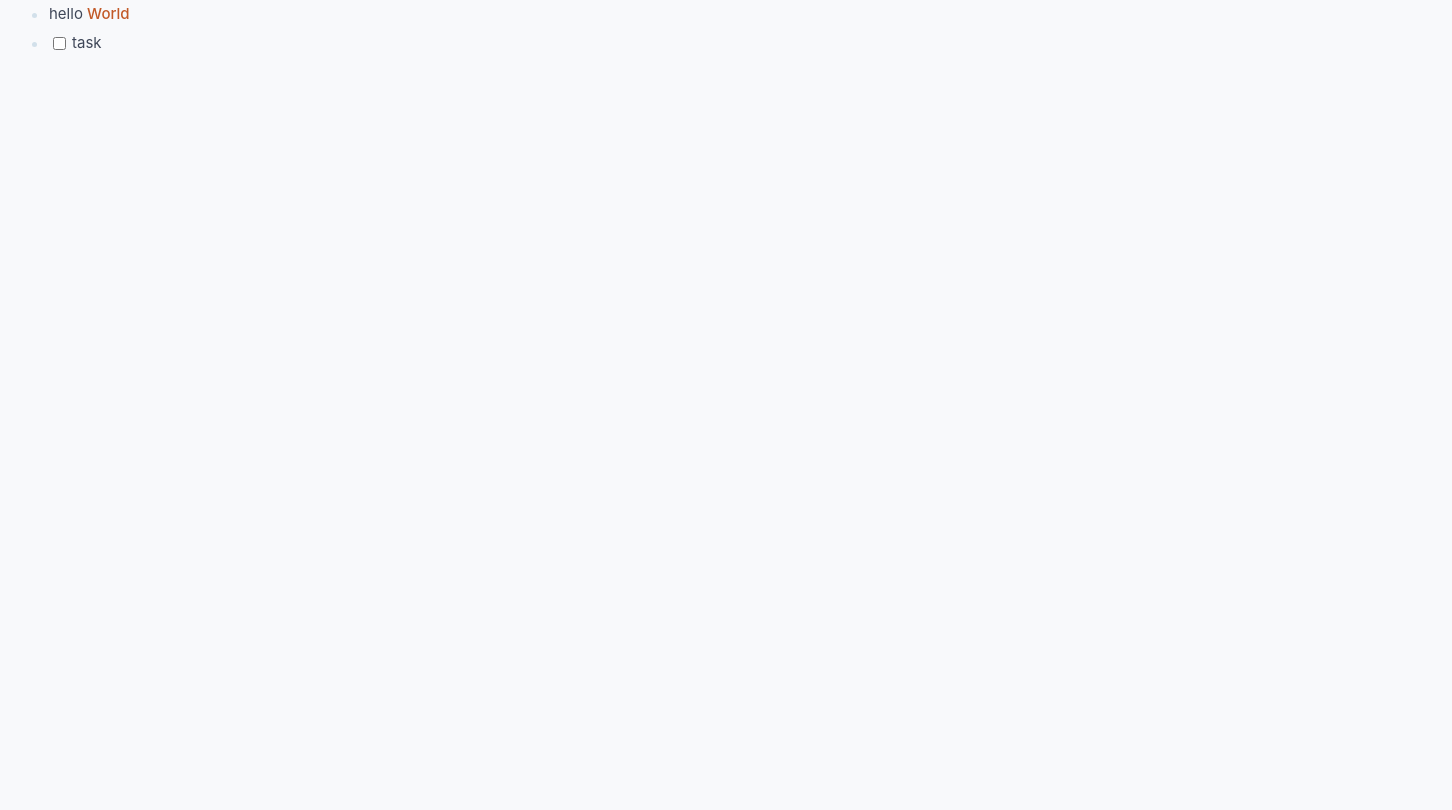
Test case: Escape and click-away close the block menu
The image size is (1452, 810).
Step 1. Click the button named "Open block menu" next to "hello" → (34,16), box [28, 9, 41, 22]
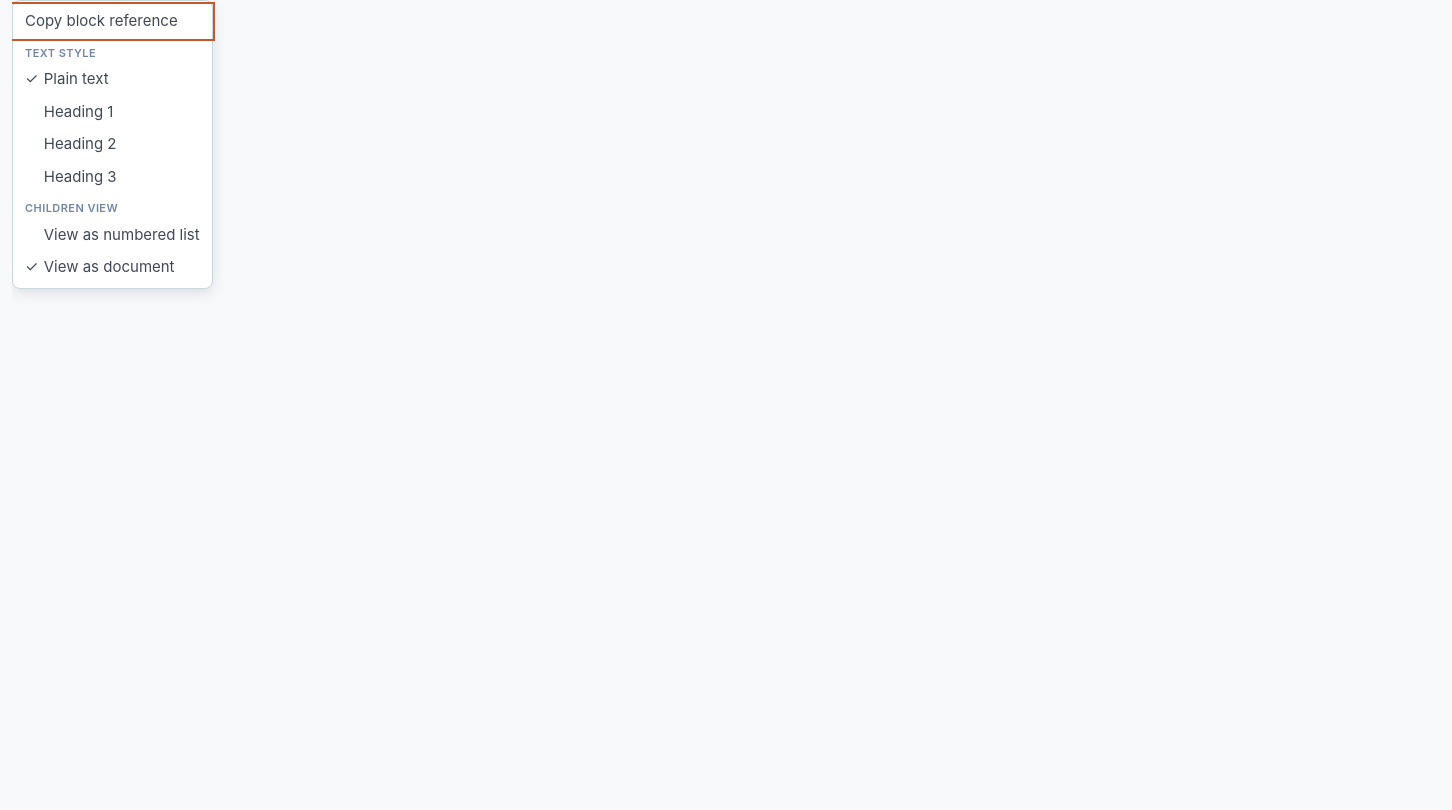
Step 2. Press Escape
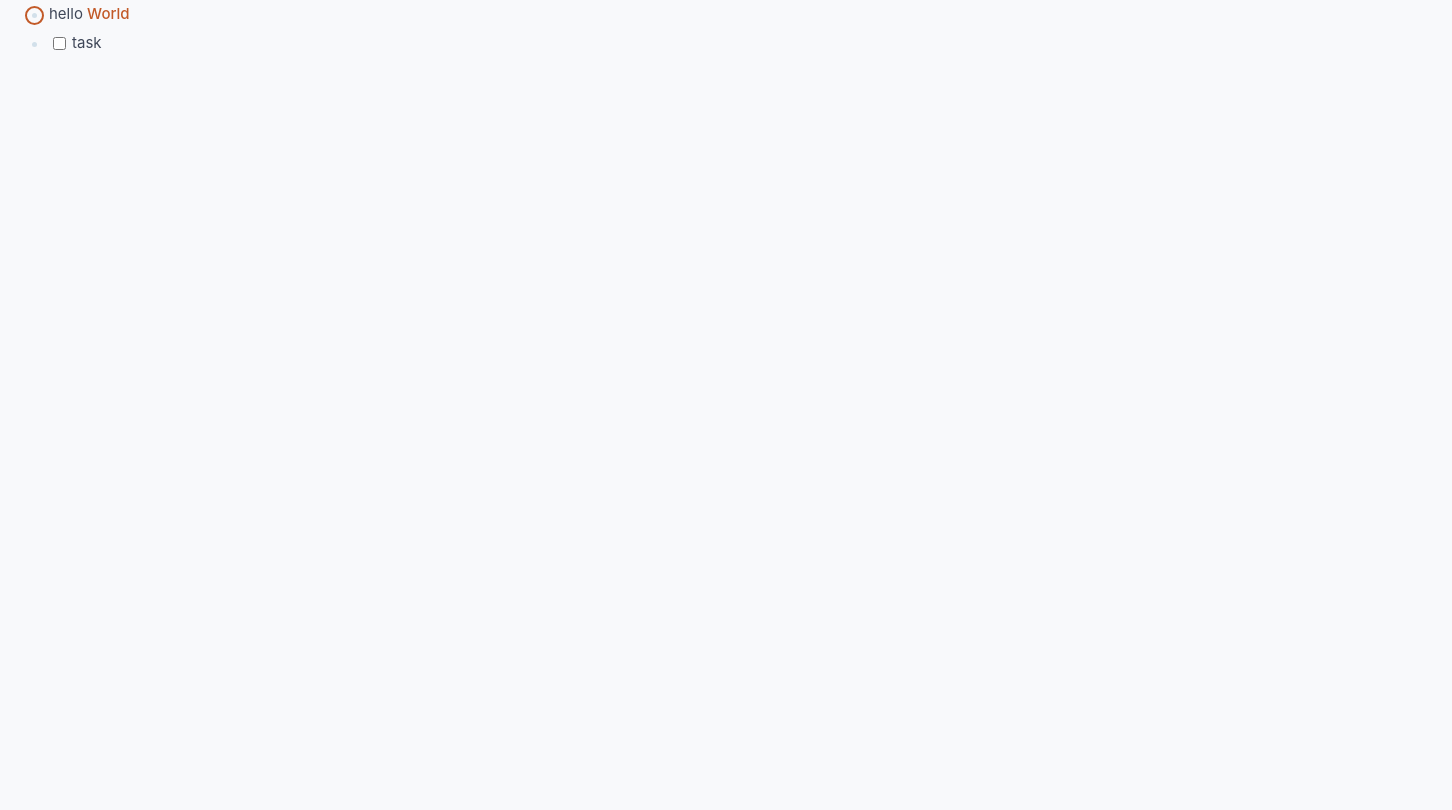
Expected: the menu is gone
Step 3. Click the button named "Open block menu" next to "task" → (34,44), box [28, 38, 41, 50]
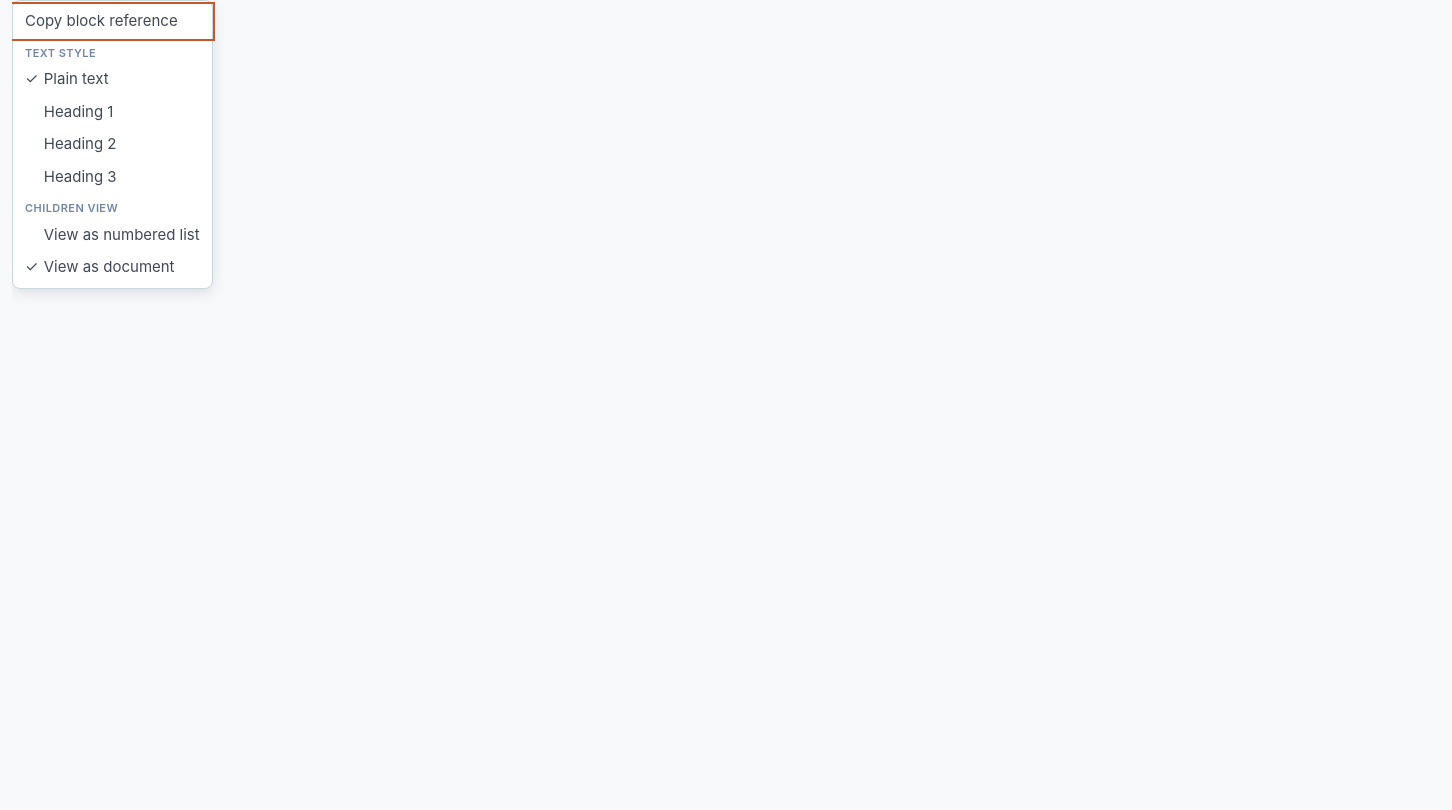
Step 4. Press the mouse on the element that starts with "hello" → (732,405), box [12, 0, 1451, 809]
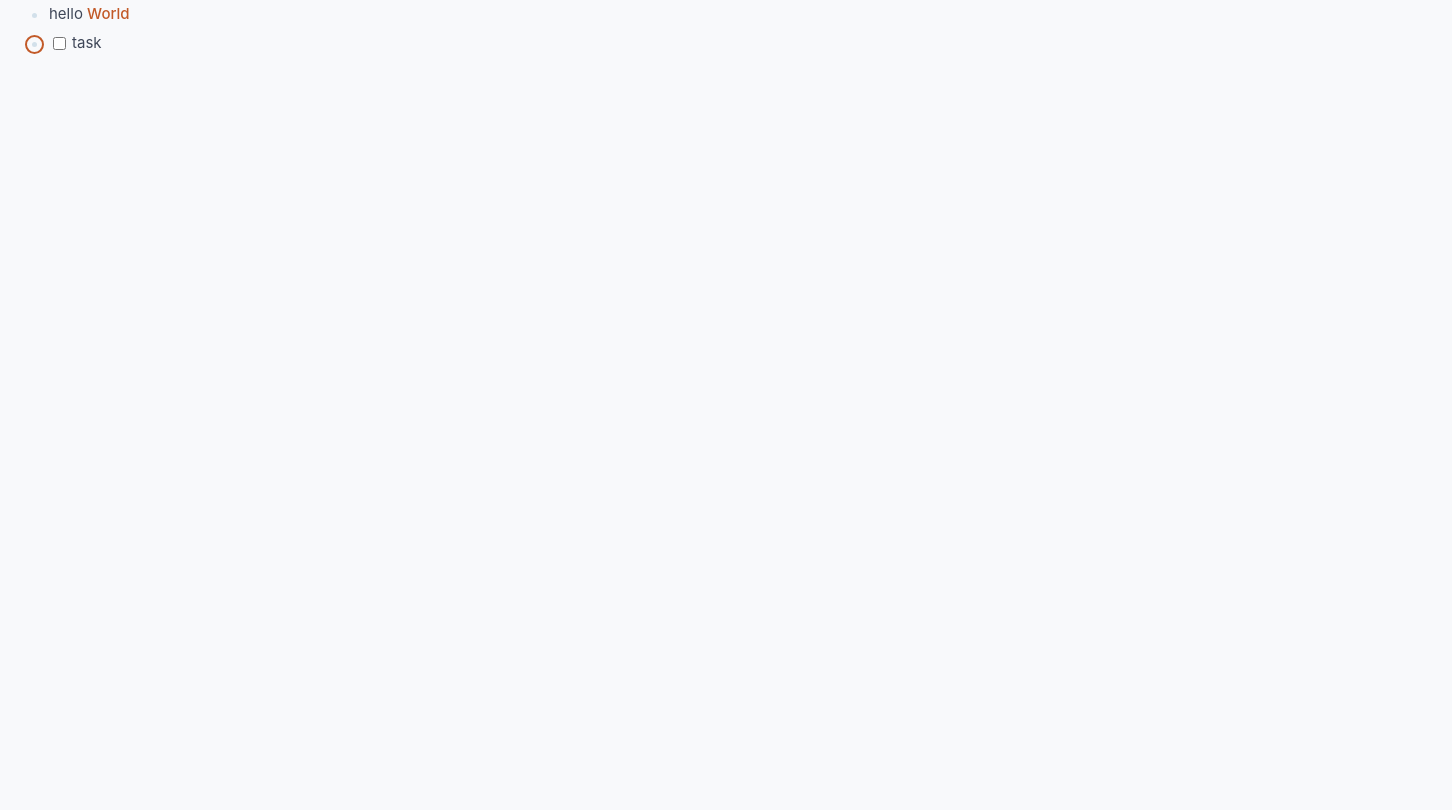
Expected: the menu is gone
